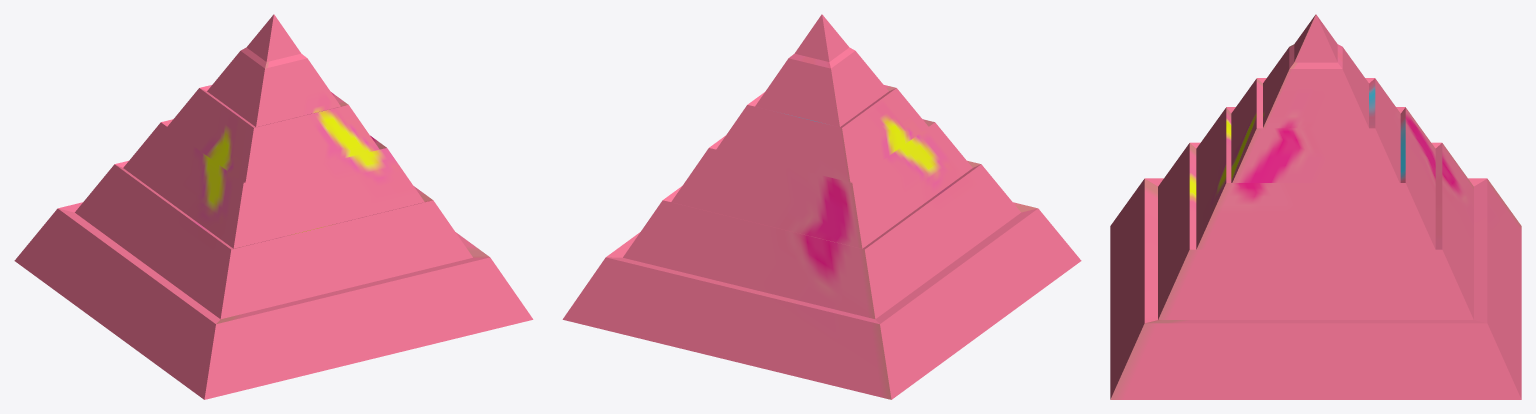
The model's file is piramideblend.fbx.
The picture shows the model from 3 angles, left to right: view 1: azimuth 30°, elevation 25°; view 2: azimuth 150°, elevation 25°; view 3: azimuth 270°, elevation 25°; orthographic projection. The views are drawn at different scales.
Parts seen in each view (by area): view 1: Cube; view 2: Cube; view 3: Cube.
Part boxes in pixels (x1,y1,x2,y2): Cube: (14,14,533,399); Cube: (562,14,1081,399); Cube: (1110,14,1521,399).
Bounding box in the file's own units: 258 × 207 × 258.
1 material, 1 textured.
